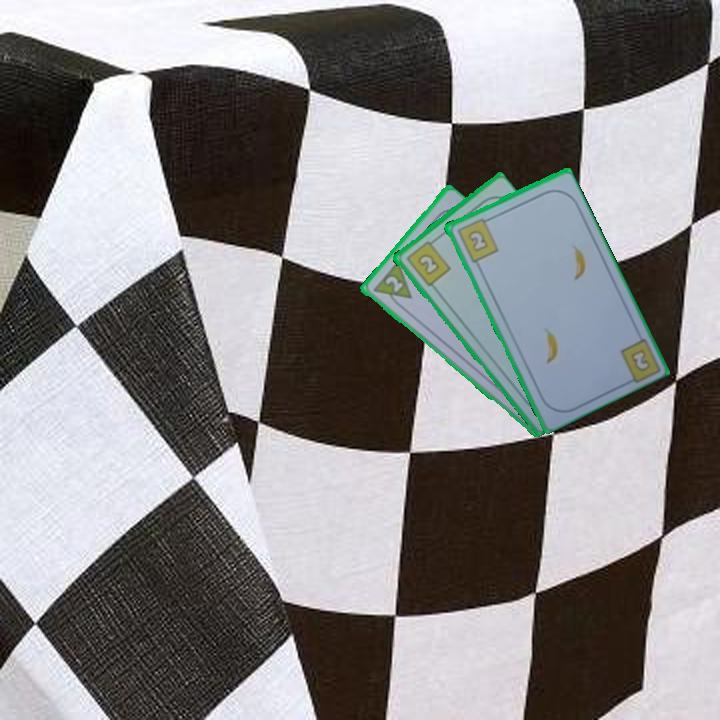2b: (402, 235, 453, 289), (453, 214, 501, 265), (629, 348, 651, 372)
2p: (369, 258, 415, 312)
